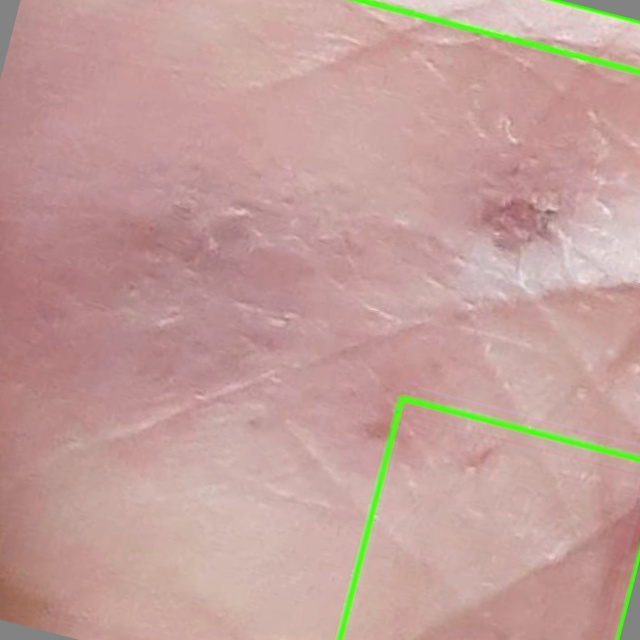Contact Dermatitis: (340, 398, 639, 639)
